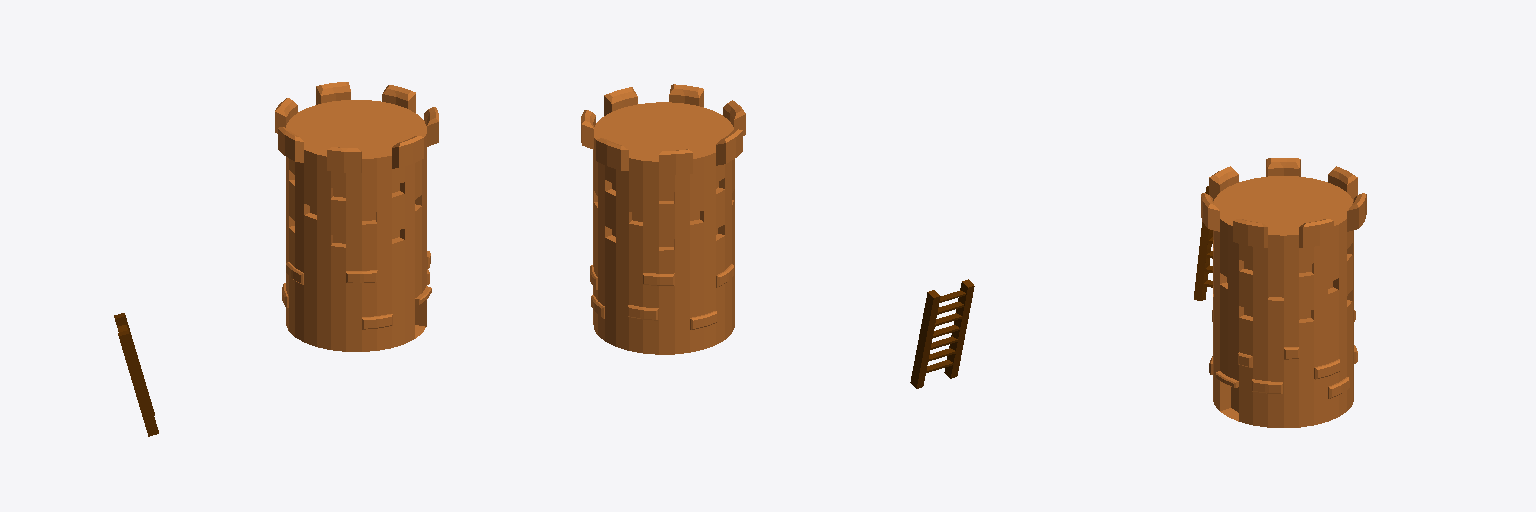
File: ladder_castle.obj
3 renders of one model, left to right at view 1: azimuth 30°, elevation 25°; view 2: azimuth 150°, elevation 25°; view 3: azimuth 270°, elevation 25°, orthographic.
Parts seen in each view (by area): view 1: Cylinder.016, stairs.001; view 2: Cylinder.016, stairs.001; view 3: Cylinder.016, stairs.001.
Boxes of the visible parts, box(x1,y1,x2,y2) form: Cylinder.016: box(275, 82, 438, 351); stairs.001: box(114, 313, 158, 436); Cylinder.016: box(581, 84, 745, 354); stairs.001: box(910, 279, 974, 388); Cylinder.016: box(1201, 158, 1366, 427); stairs.001: box(1194, 186, 1212, 300).
Bounding box in the file's own units: 7.12 × 4.54 × 3.1.